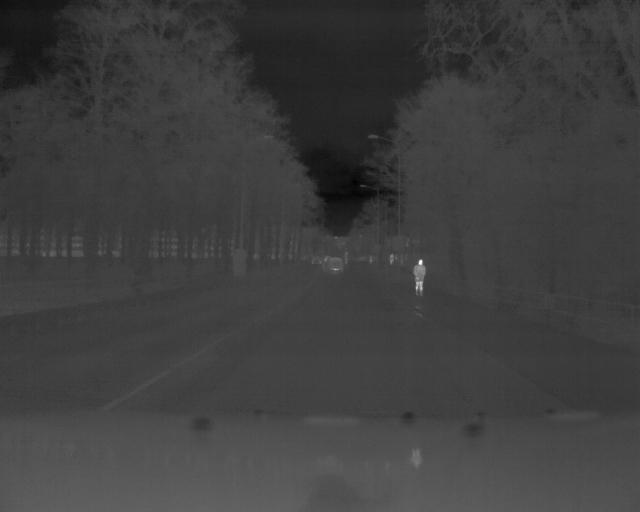car: (412, 257, 430, 301), (321, 255, 345, 275)
